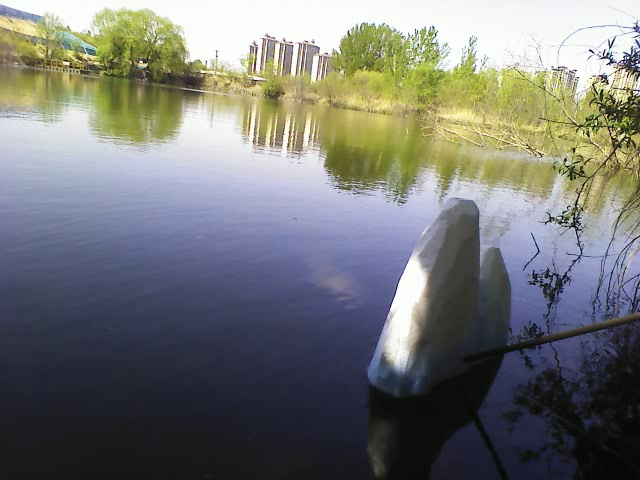iceberg: (363, 194, 515, 398)
